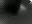person: (20, 4, 27, 15)
